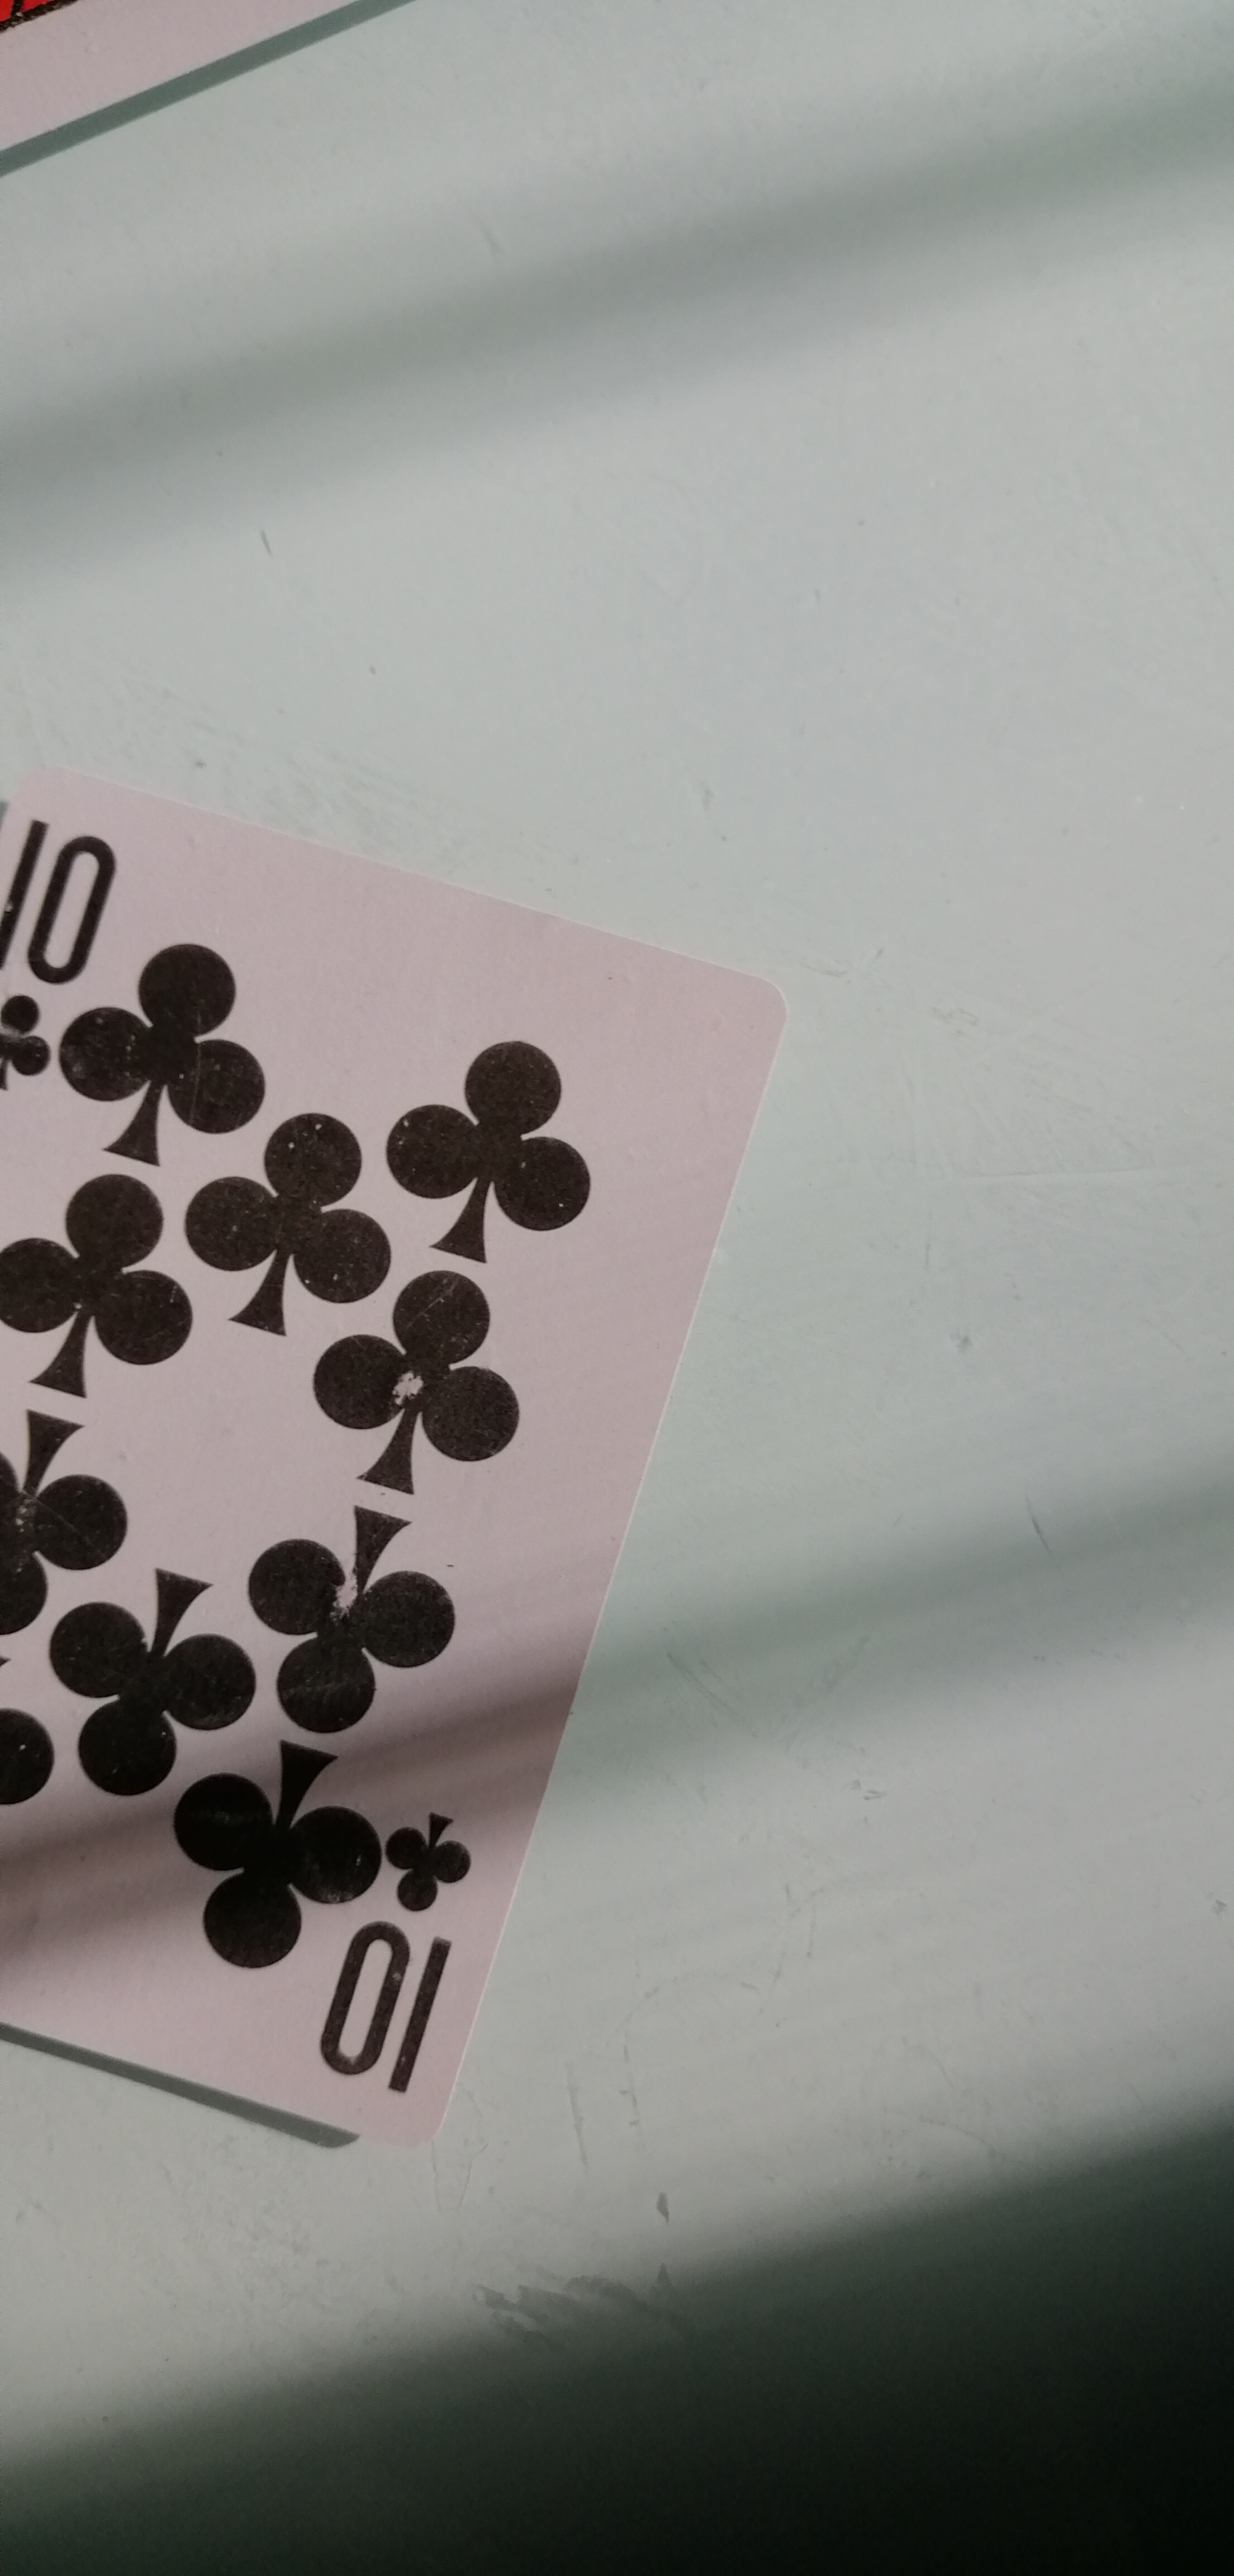ten: (0, 747, 774, 2159)
